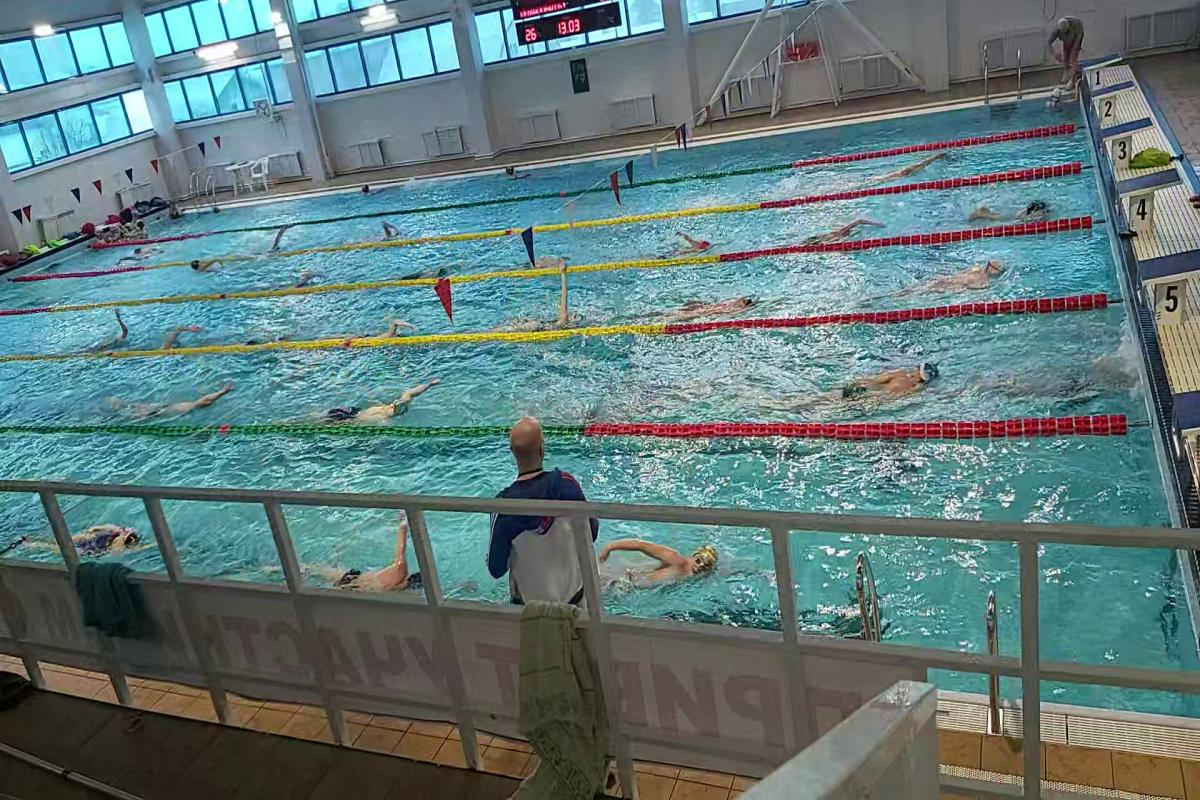swimmer: (289, 520, 426, 590), (599, 529, 743, 595), (17, 508, 162, 566), (829, 358, 946, 407), (330, 374, 429, 430), (902, 249, 1013, 292), (514, 290, 624, 329), (118, 384, 246, 412), (670, 288, 779, 319), (655, 224, 741, 256), (802, 216, 890, 242), (949, 183, 1011, 218), (532, 238, 605, 264), (1028, 184, 1064, 212), (192, 256, 234, 278), (158, 316, 192, 338)
